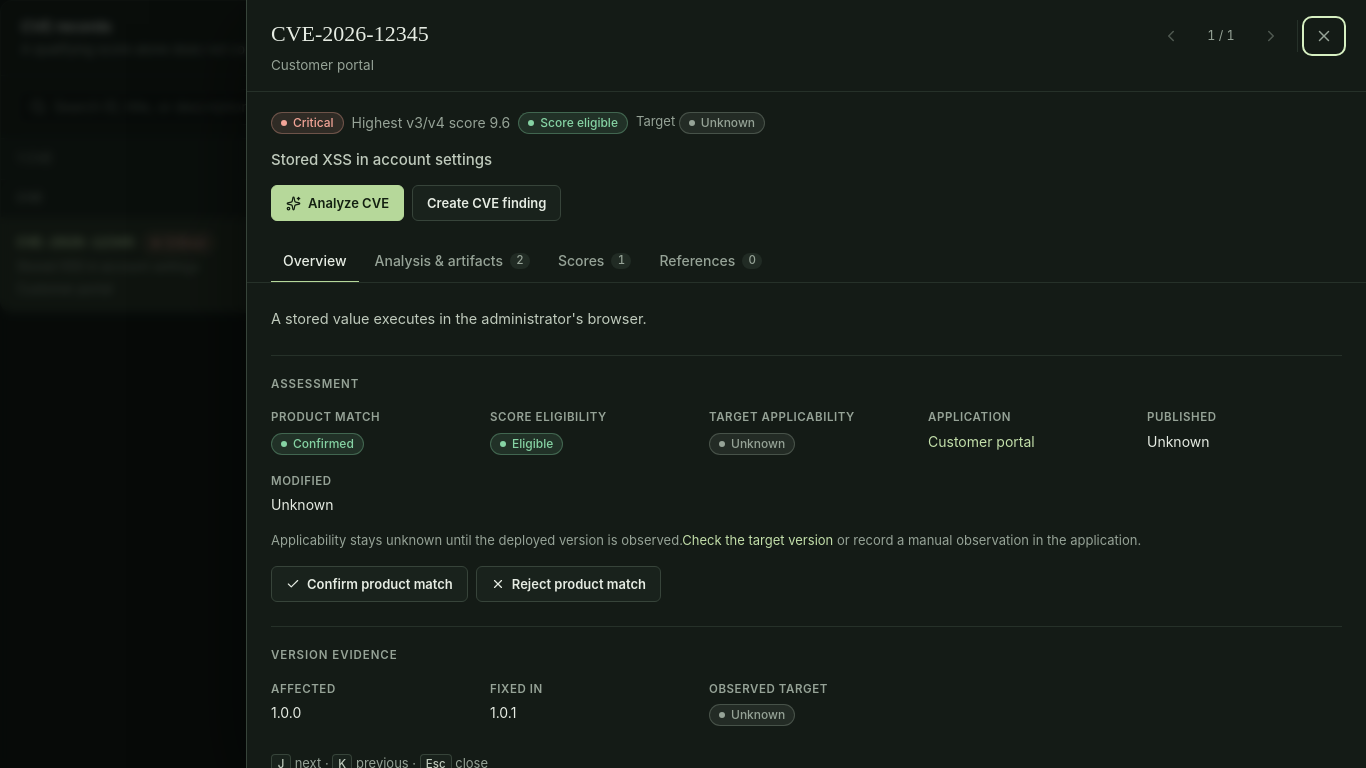
Test: returns to CVE details on cancel and submits the selected profile and vulnerable revision
Click the button "Analyze CVE": (338, 203) [271, 185, 404, 221]
(page scrolled)
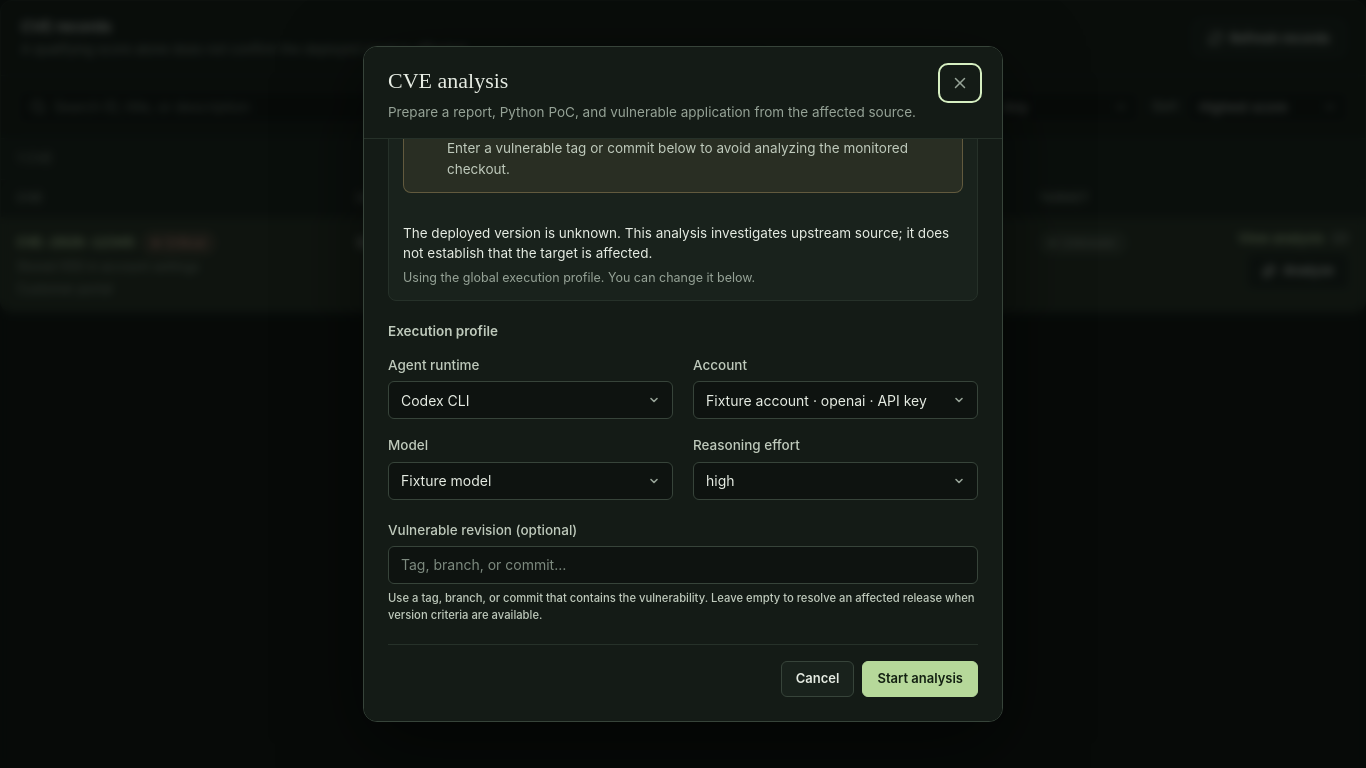
Click the button "Cancel": (818, 679) [781, 661, 854, 697]
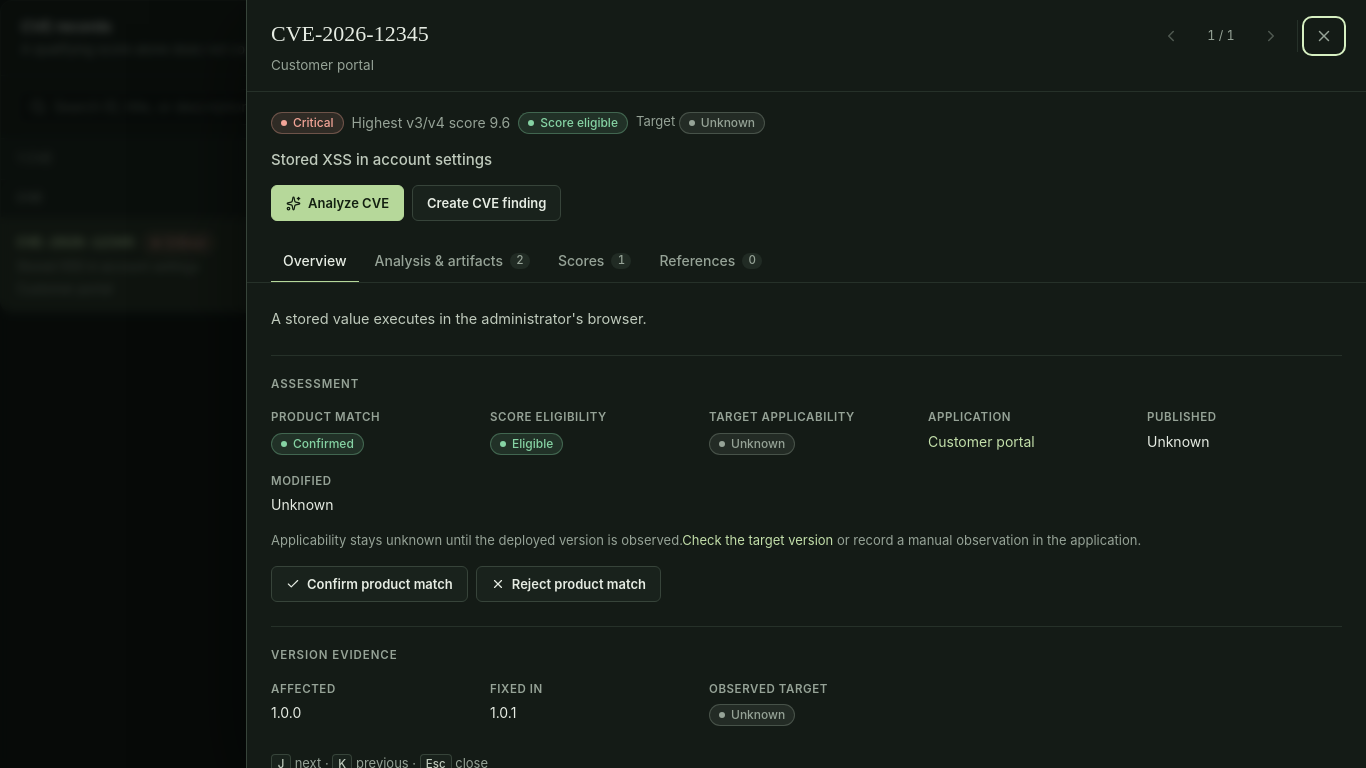
Expected: the dialog "CVE-2026-12345" is shown
Click the button "Analyze CVE": (338, 203) [271, 185, 404, 221]
(page scrolled)
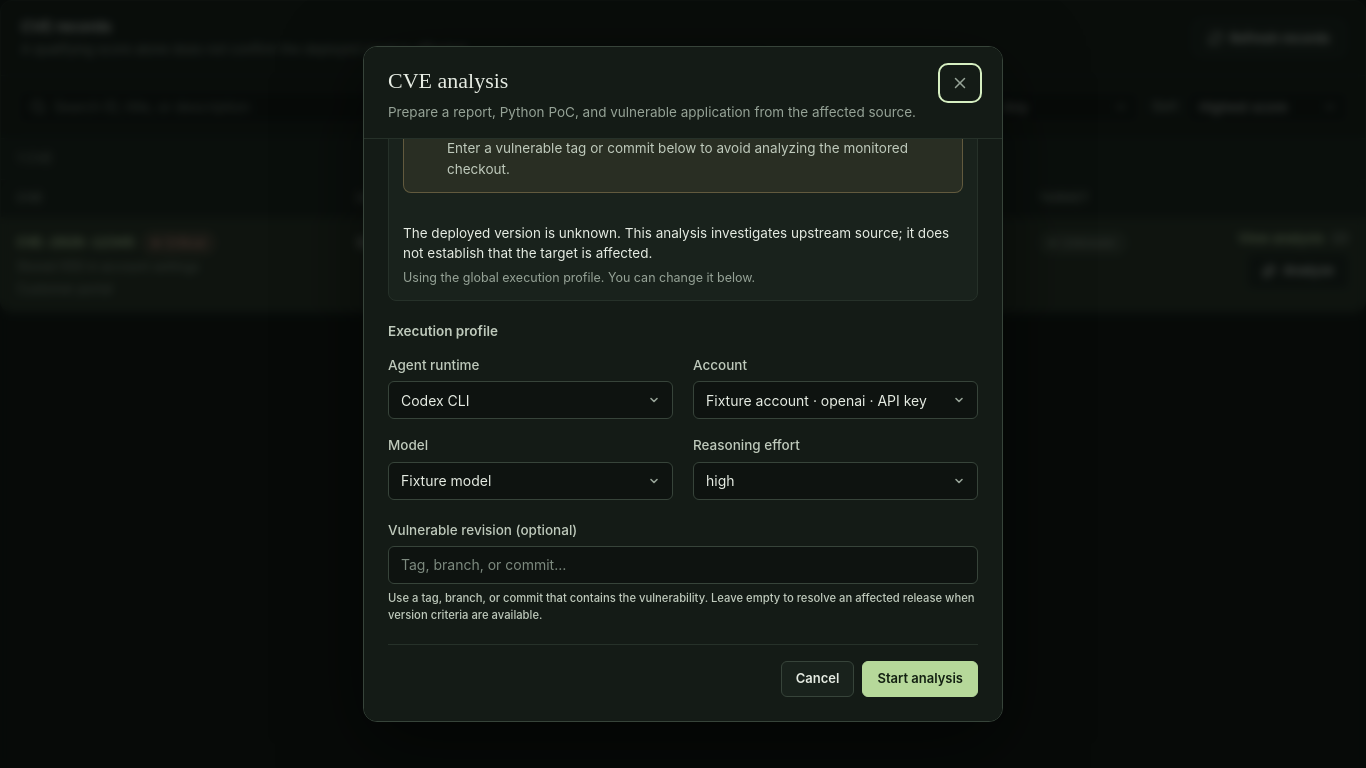
In the field labelled "Vulnerable revision (optional)": (683, 565) [388, 546, 978, 584], type "1.0.0"
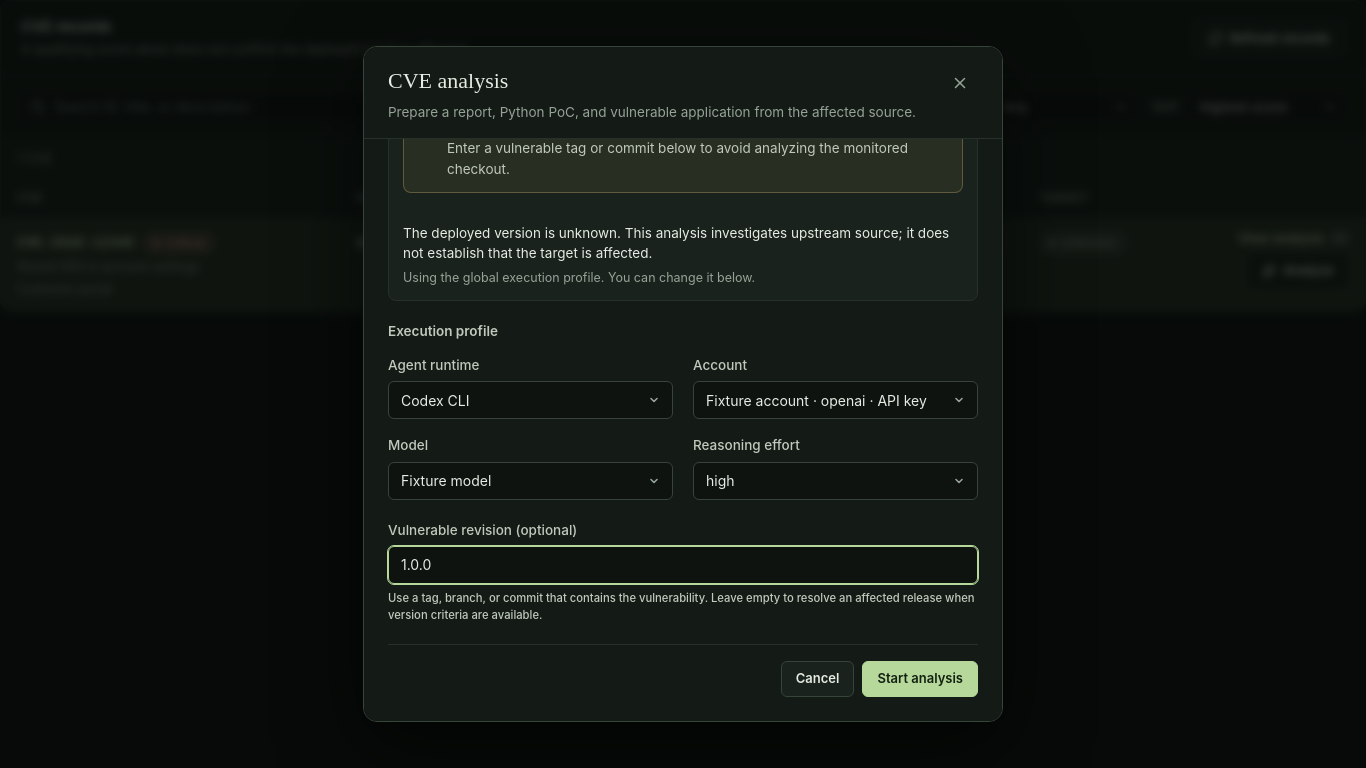
Click the button "Start analysis": (920, 679) [862, 661, 978, 697]
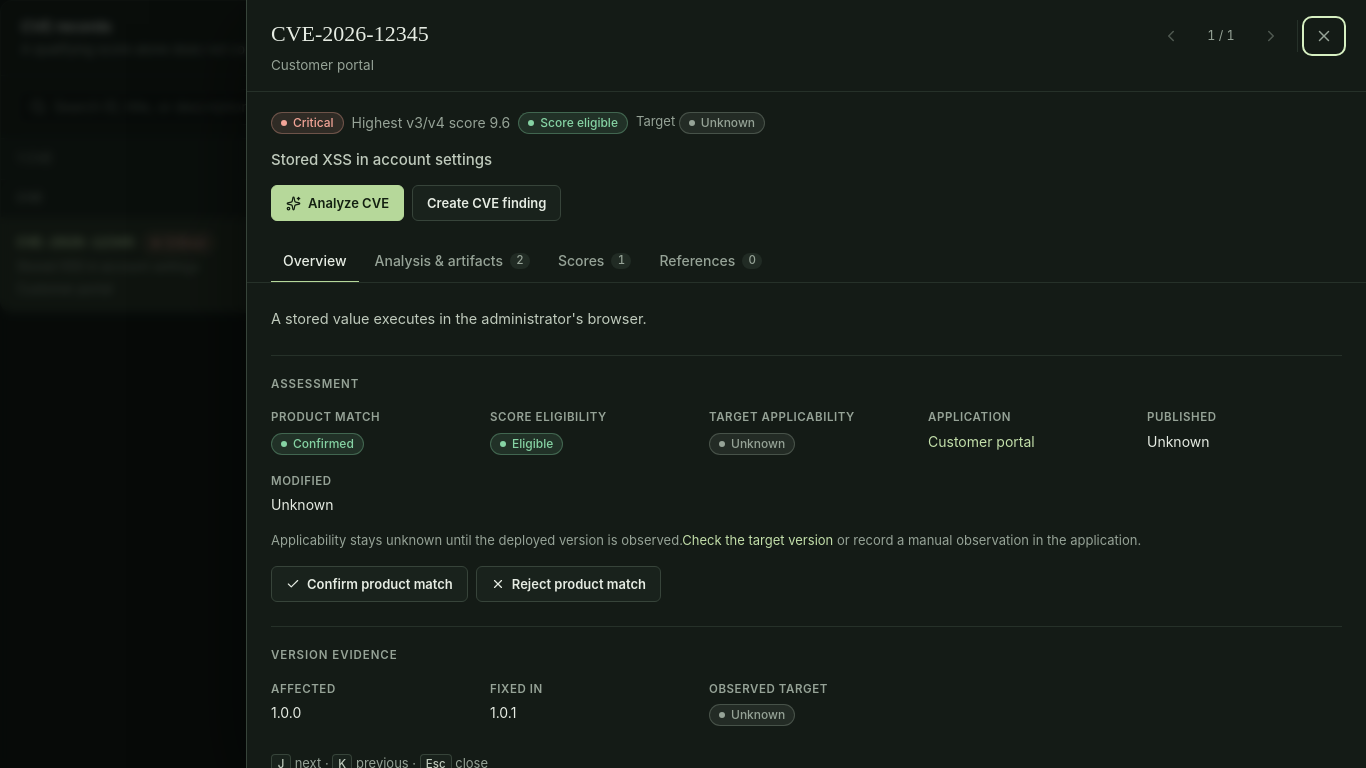
Expected: the dialog "CVE-2026-12345" is shown
